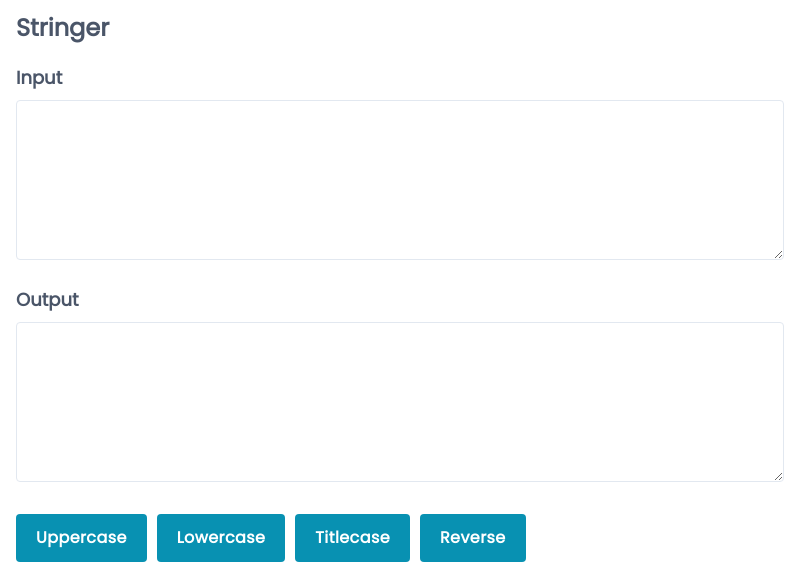
clicking "Uppercase" button should convert input text to uppercase
This screenshot has width=801, height=579.
Type "hello, world!" into the text box labelled "Input". click: coordinates (400, 180)
box: [16,100,784,260]
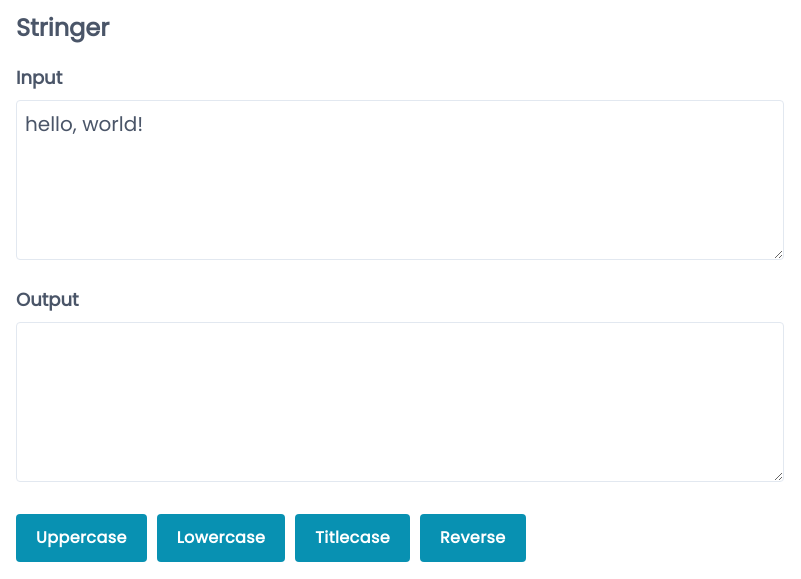
Click the button "Uppercase". click: coordinates (81, 538)
box: [16,514,147,562]
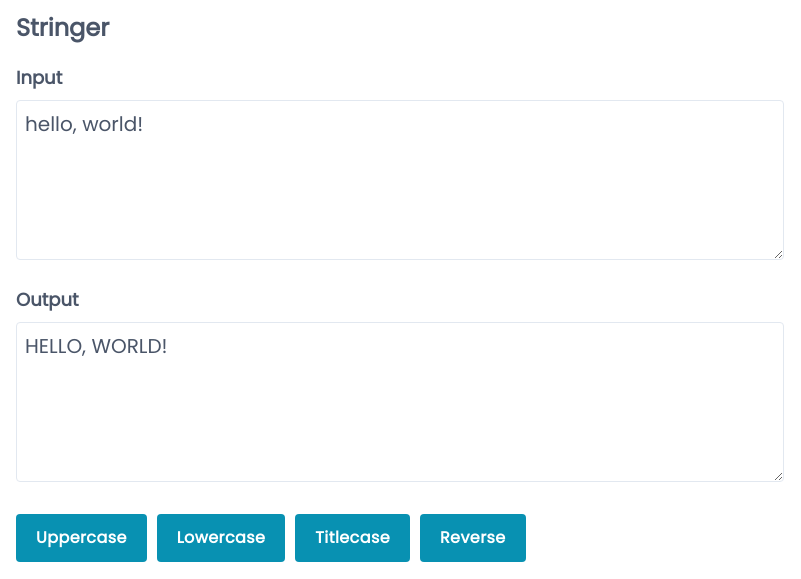
Expected: the text box labelled "Output" holds "HELLO, WORLD!", [16,322,784,482]
